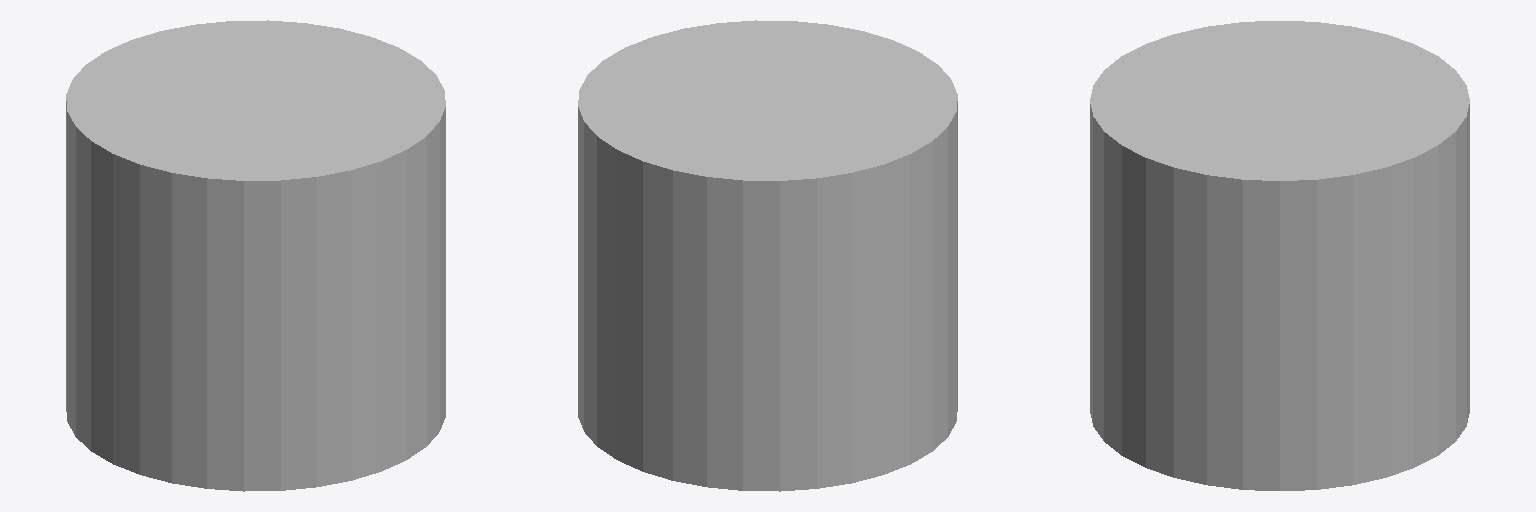
URDF robot description (model.urdf):
<?xml version="0.0" ?>
<robot name="model.urdf">

	<material name="grey">
		<color rgba="0.8 0.8 0.8 1"/>
	</material>

	<link name="baseLink">
		<inertial>
			<mass value="0.108"/>
			<inertia  ixx="0.00011" ixy="0.00"  ixz="0.00" iyy="0.00011" iyz="0.00" izz="0.000043" />
		</inertial>
		<visual>
			<origin xyz="0 0 0" rpy="0 0 0"/>
			<geometry>
				<cylinder length="0.099" radius="0.055"/>
			</geometry>
			<material name="grey"/>
		</visual>
		<collision>
			<origin xyz="0 0 0" rpy="0 0 0"/>
			<geometry>
				<cylinder length="0.099" radius="0.055"/>
			</geometry>
		</collision>
	</link>
</robot>

--- Render facts (derived) ---
3 views of the same robot in one strip: view 1: azimuth 30°, elevation 25°; view 2: azimuth 150°, elevation 25°; view 3: azimuth 270°, elevation 25° (orthographic).
Model model.urdf with 1 links and 0 joints (none), rooted at baseLink, posed all joints at 0.
Visible links, largest first — view 1: baseLink; view 2: baseLink; view 3: baseLink.
Link boxes in pixels (left/top/right/bottom): baseLink: left=66, top=20, right=445, bottom=491; baseLink: left=578, top=20, right=957, bottom=491; baseLink: left=1090, top=21, right=1469, bottom=490.
Bounding box of the posed robot: 0.11 × 0.11 × 0.099 m (x, y, z).
Geometry: primitives only (box / cylinder / sphere), no mesh files.